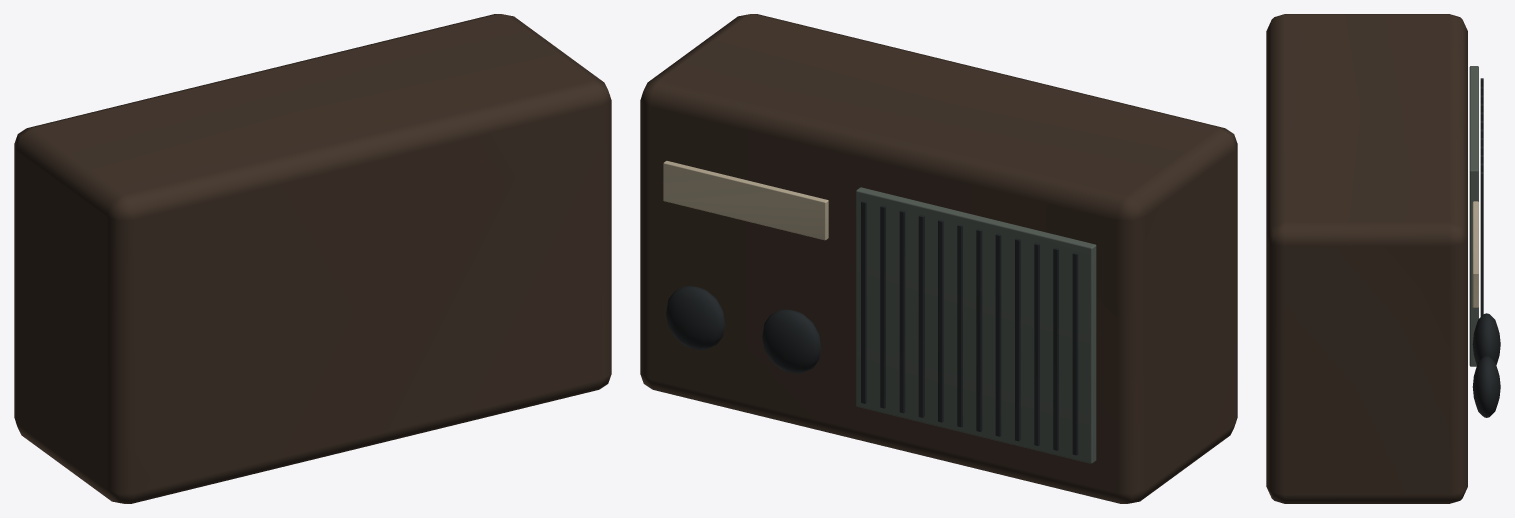
Rendered from prop-wood-radio-v01.glb.
The picture shows the model from 3 angles, left to right: view 1: azimuth 30°, elevation 25°; view 2: azimuth 150°, elevation 25°; view 3: azimuth 270°, elevation 25°; orthographic projection. The views are drawn at different scales.
Parts seen in each view (by area): view 1: wood-radio; view 2: wood-radio; view 3: wood-radio.
Boxes of the visible parts, x1=… form: wood-radio: x1=14, y1=14, x2=611, y2=503; wood-radio: x1=640, y1=14, x2=1237, y2=503; wood-radio: x1=1266, y1=14, x2=1500, y2=503.
Size of the model in its own units: 0.34 by 0.2 by 0.151.
